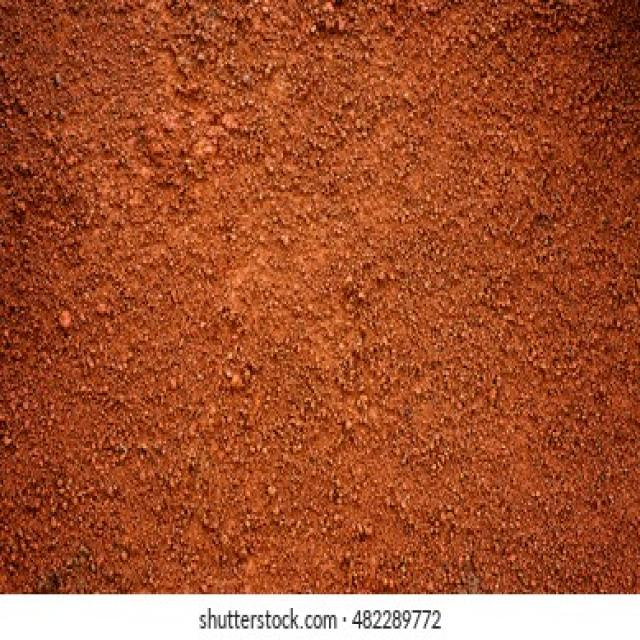Red Soil: (60, 51, 592, 538)
